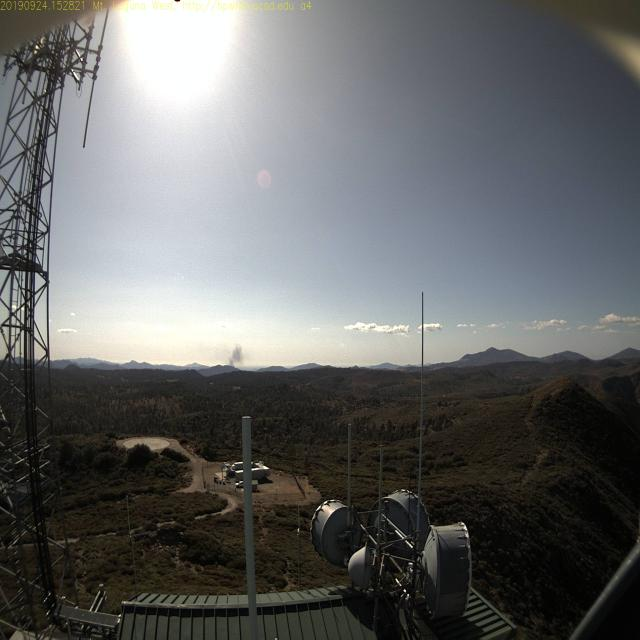smoke: (220, 338, 252, 377)
